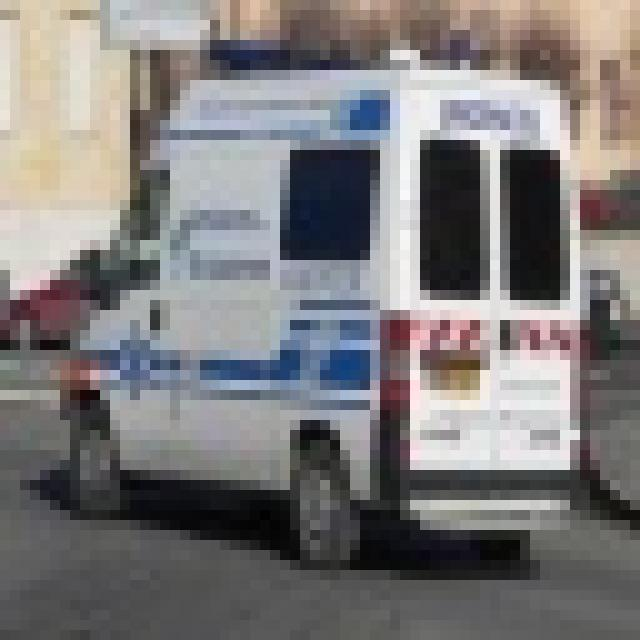Ambulance: (50, 40, 580, 560)
